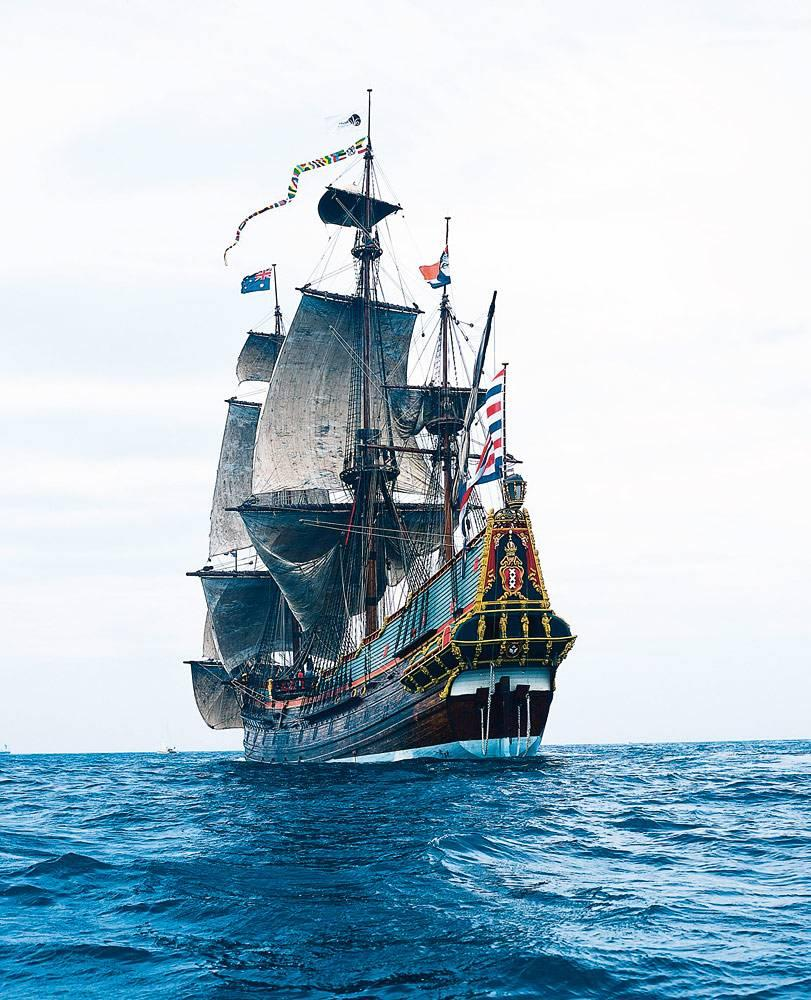fanchuan: (183, 67, 578, 764)
